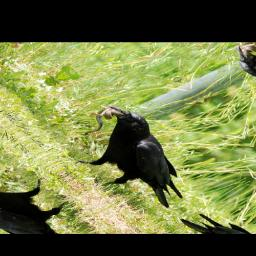Crow: (45, 99, 218, 219)
